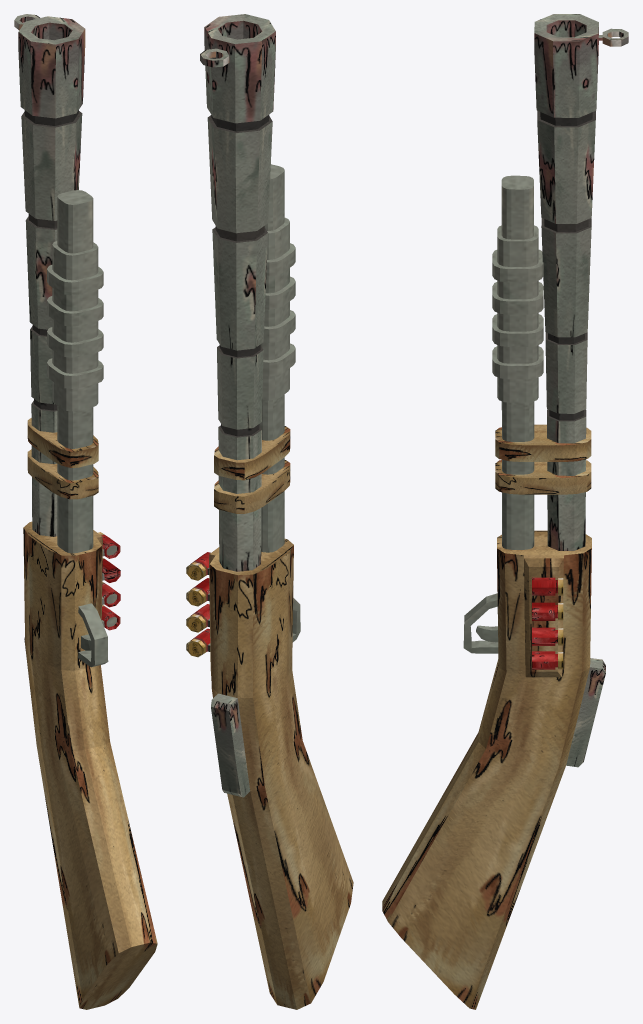
File: Shotgun.glb
3 views of the same model, side by side, from view 1: azimuth 30°, elevation 25°; view 2: azimuth 150°, elevation 25°; view 3: azimuth 270°, elevation 25° (orthographic). The views are drawn at different scales.
Visible parts, largest first — view 1: Shotgun; view 2: Shotgun; view 3: Shotgun.
Boxes of the visible parts, bbox=[...] form: Shotgun: bbox=[14, 14, 157, 1009]; Shotgun: bbox=[186, 14, 353, 1009]; Shotgun: bbox=[382, 14, 628, 1009].
Size of the model in its own units: 0.083 by 0.9479 by 0.2164.
1 material, 1 textured.
